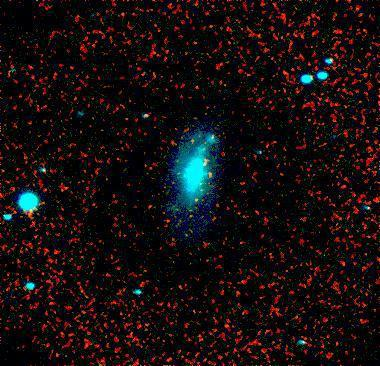star: (178, 182, 208, 212)
